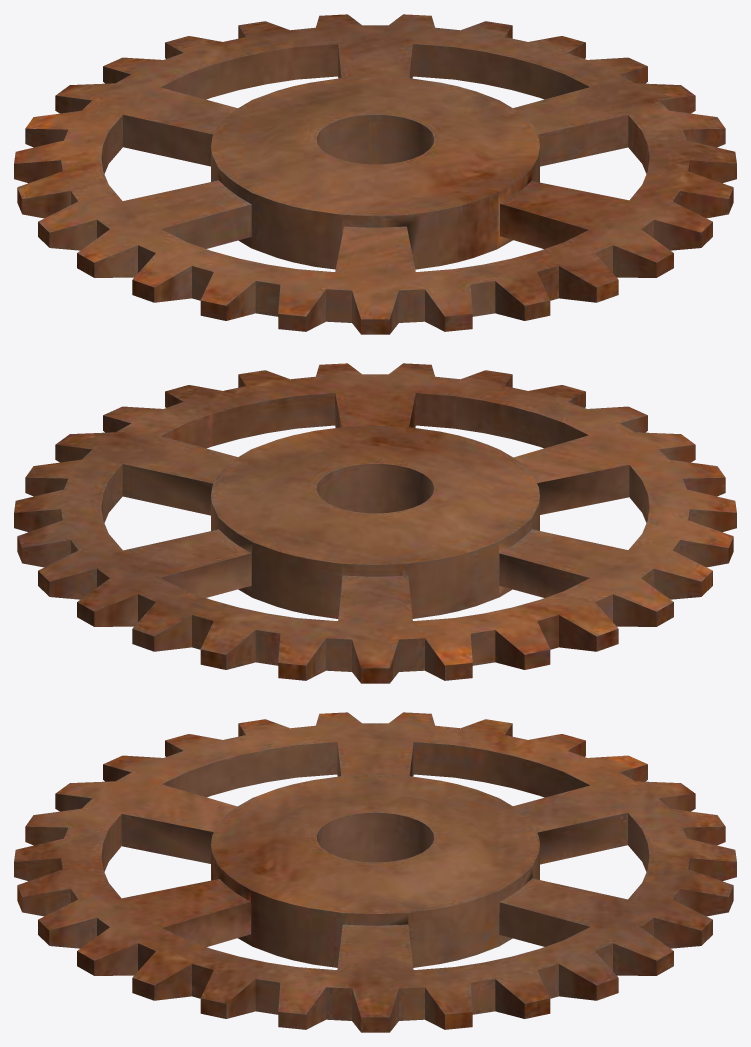
Rendered from steampunk_gear_07.glb.
3 views of the same model, one above another, from view 1: azimuth 30°, elevation 25°; view 2: azimuth 150°, elevation 25°; view 3: azimuth 270°, elevation 25° (orthographic).
Visible parts, largest first — view 1: steampunk_gear_07; view 2: steampunk_gear_07; view 3: steampunk_gear_07.
Boxes of the visible parts, x1,y1,x2,y2 form: steampunk_gear_07: (14,14,736,334); steampunk_gear_07: (14,363,736,683); steampunk_gear_07: (14,712,736,1032).
Size of what is drawn, in the model's own units: 0.1422 by 0.0151 by 0.1425.
1 material, 1 textured.
